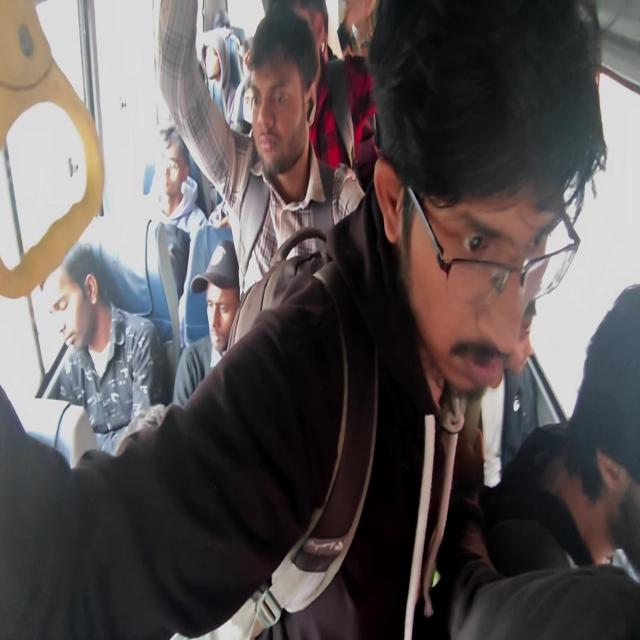person: (383, 28, 533, 368), (569, 314, 640, 578), (248, 46, 306, 168), (43, 253, 109, 347), (206, 242, 248, 354), (508, 291, 542, 393), (277, 0, 327, 68), (150, 131, 184, 201), (200, 39, 233, 88), (238, 86, 260, 127), (212, 13, 234, 40)
